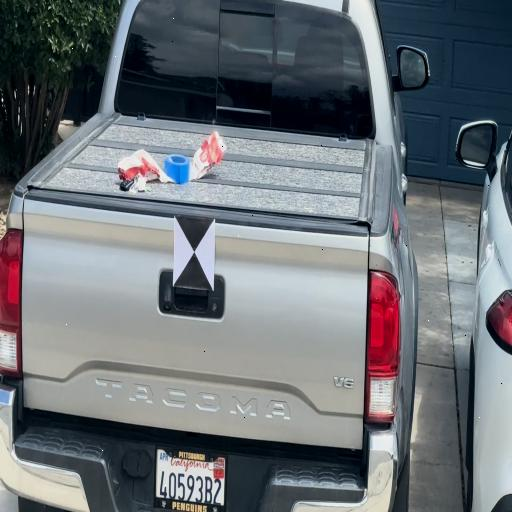target: (174, 216, 216, 291)
